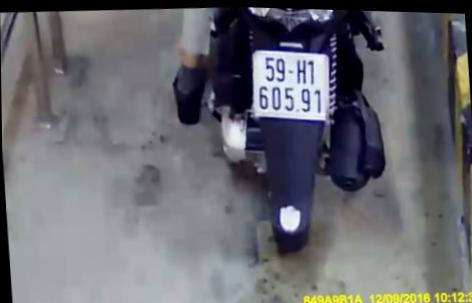LP: (245, 43, 333, 124)
